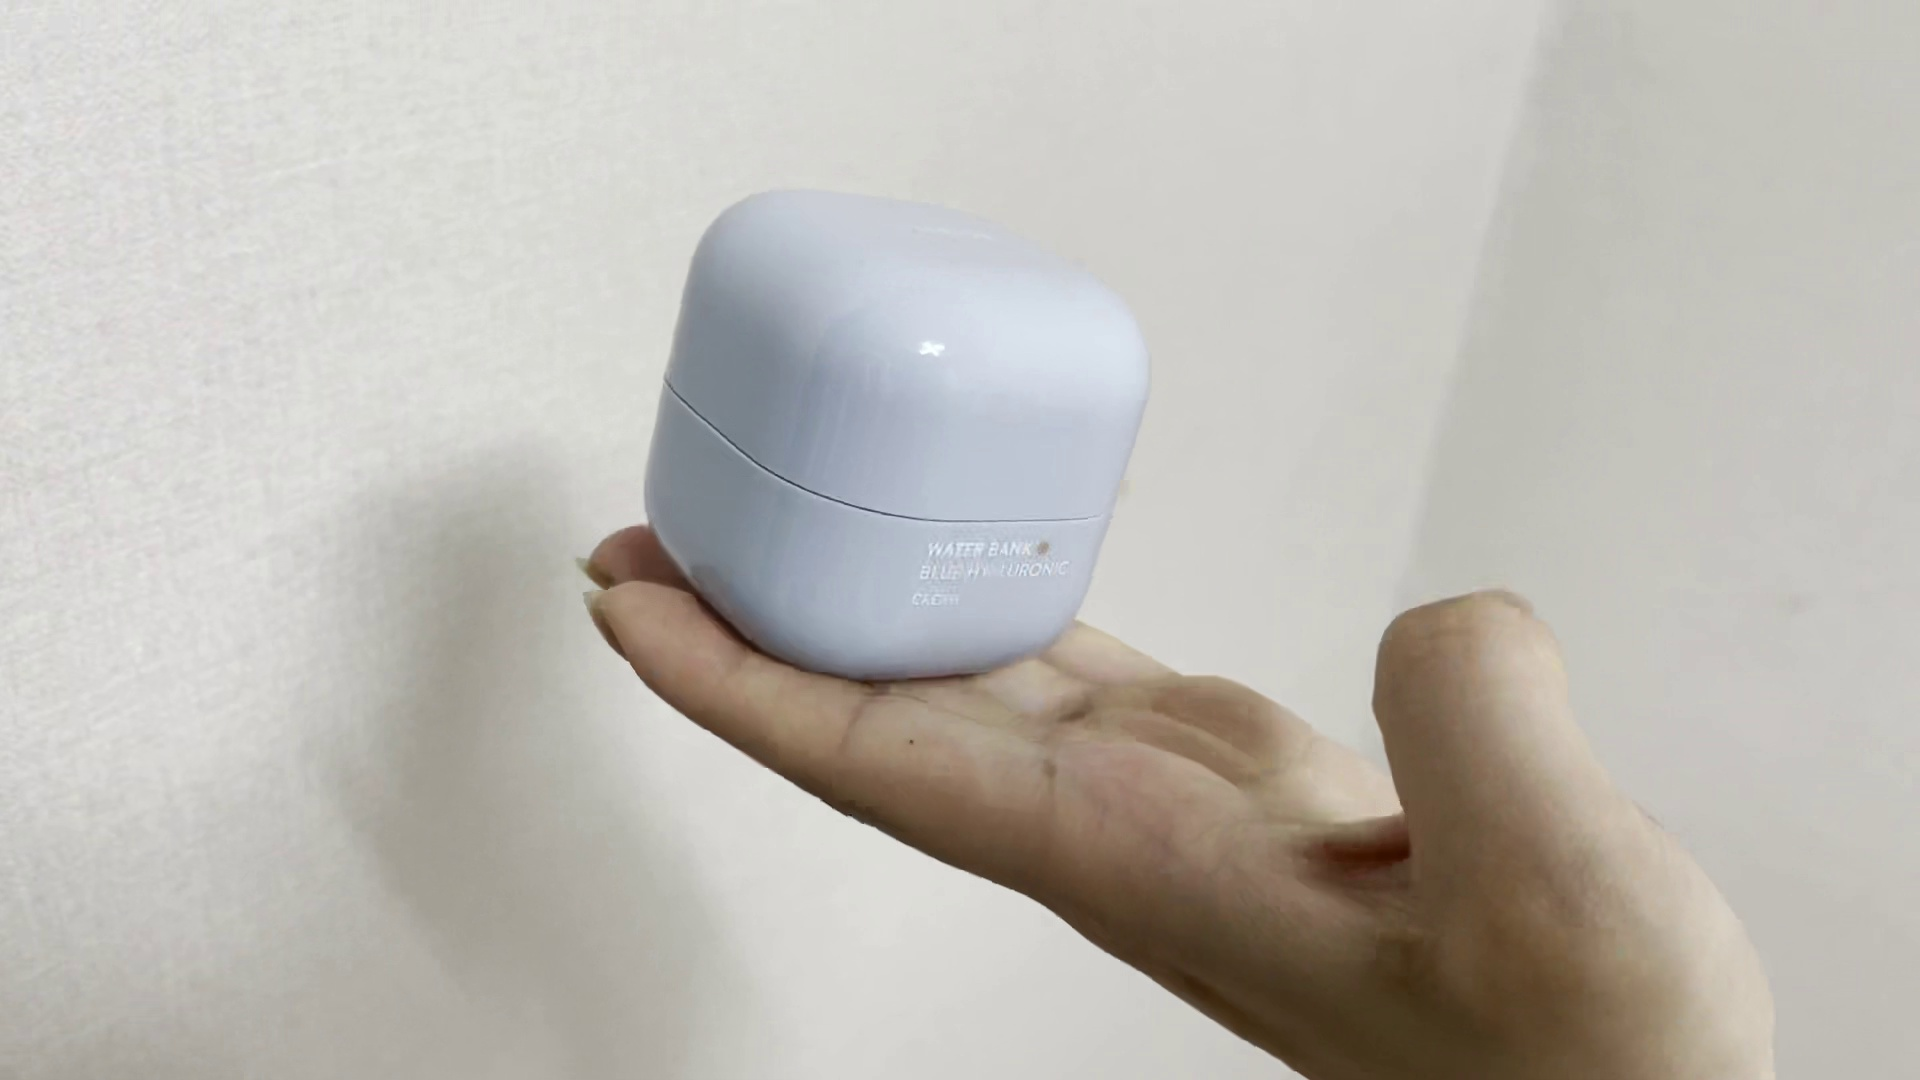cream: (646, 186, 1145, 682)
